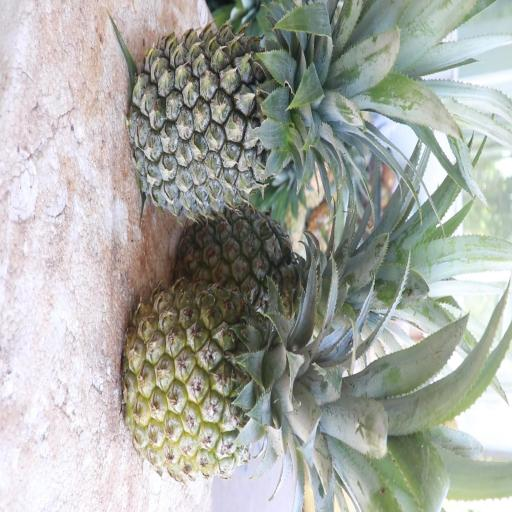------------------------------: (116, 274, 354, 486), (167, 193, 366, 348)
